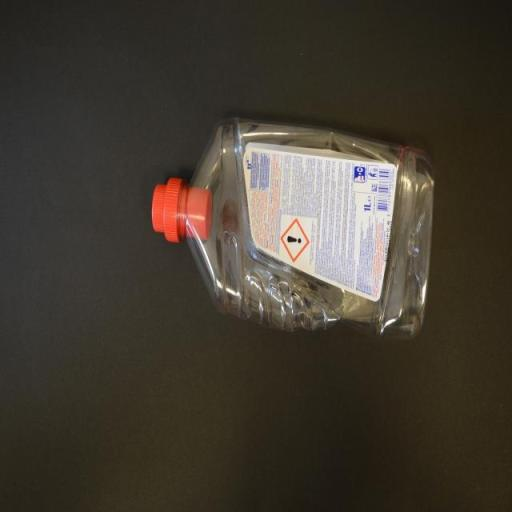plastic: (150, 114, 434, 342)
